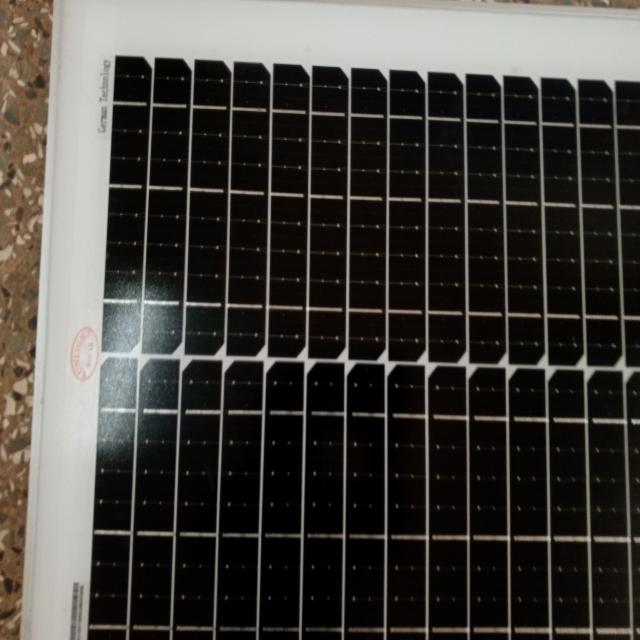Clean: (67, 25, 640, 640)
